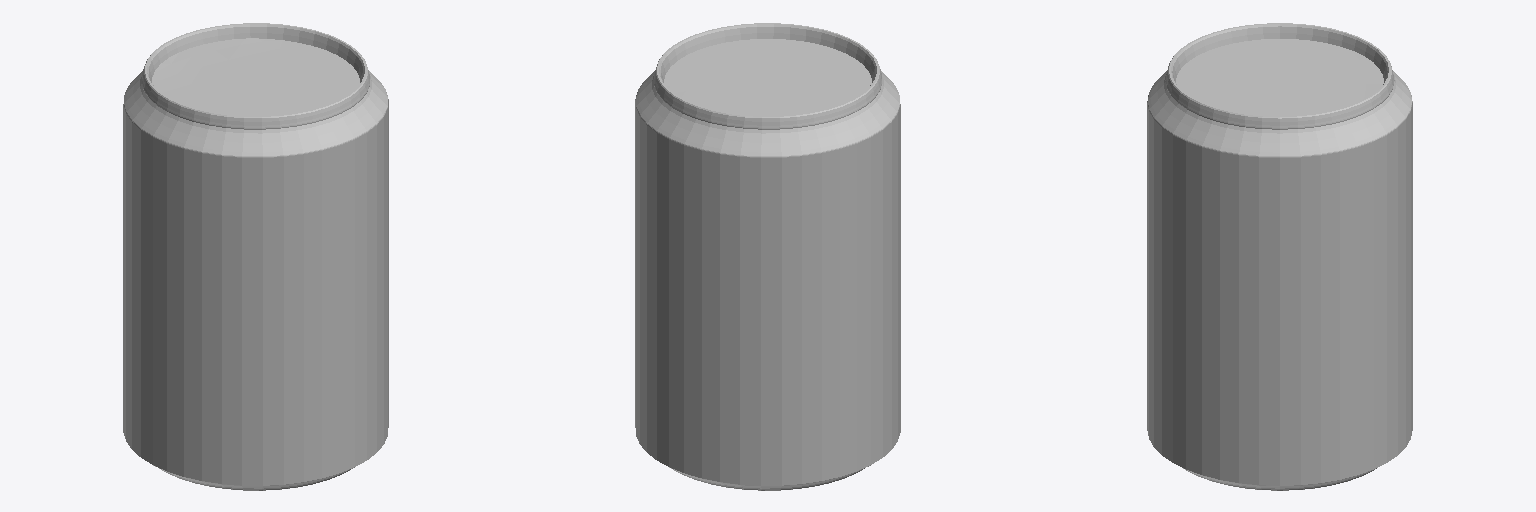
File: can.obj
The picture shows the model from 3 angles: view 1: azimuth 30°, elevation 25°; view 2: azimuth 150°, elevation 25°; view 3: azimuth 270°, elevation 25°; orthographic projection.
Parts seen in each view (by area): view 1: Lata:pCylinder2; view 2: Lata:pCylinder2; view 3: Lata:pCylinder2.
Boxes of the visible parts, x1,y1,x2,y2 form: Lata:pCylinder2: [123, 23, 388, 490]; Lata:pCylinder2: [635, 23, 900, 490]; Lata:pCylinder2: [1147, 23, 1412, 490].
Size of the model in its own units: 5.85 by 9.05 by 5.85.